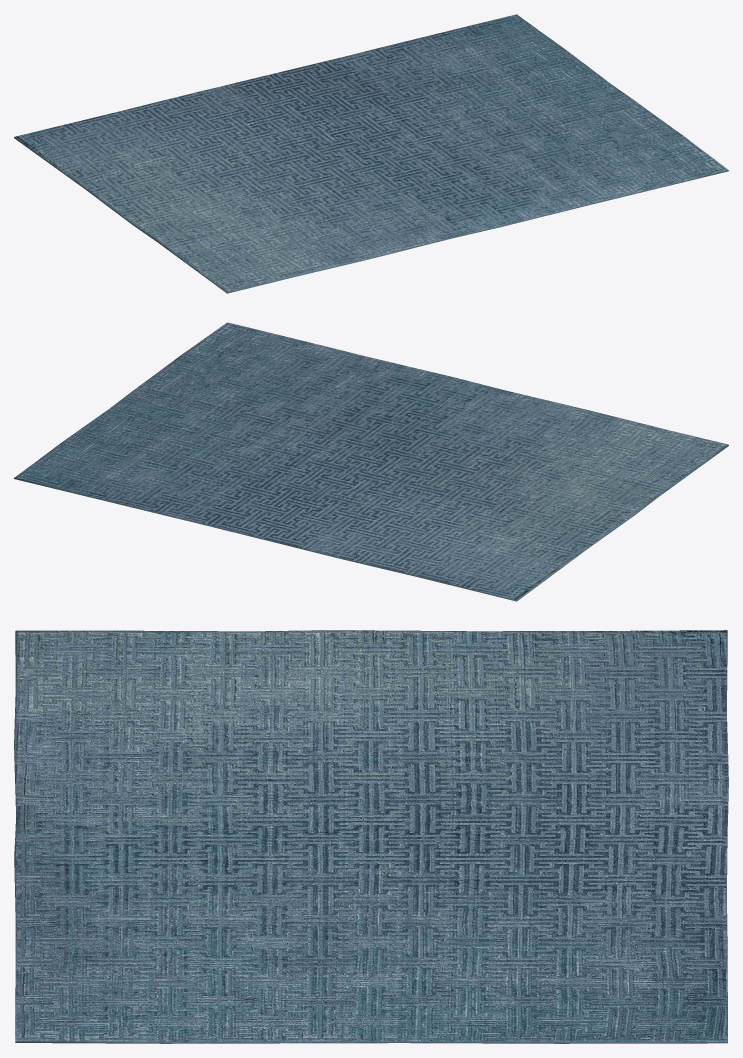
Rendered from kover.fbx.
3 renders of one model, top to bottom at view 1: azimuth 30°, elevation 25°; view 2: azimuth 150°, elevation 25°; view 3: azimuth 270°, elevation 25°, orthographic. The views are drawn at different scales.
Parts seen in each view (by area): view 1: carpet; view 2: carpet; view 3: carpet.
Boxes of the visible parts, <box> form: carpet: <box>14,14,728,293</box>; carpet: <box>14,322,728,601</box>; carpet: <box>14,630,728,1043</box>.
Size of the model in its own units: 242 by 0.6725 by 178.
